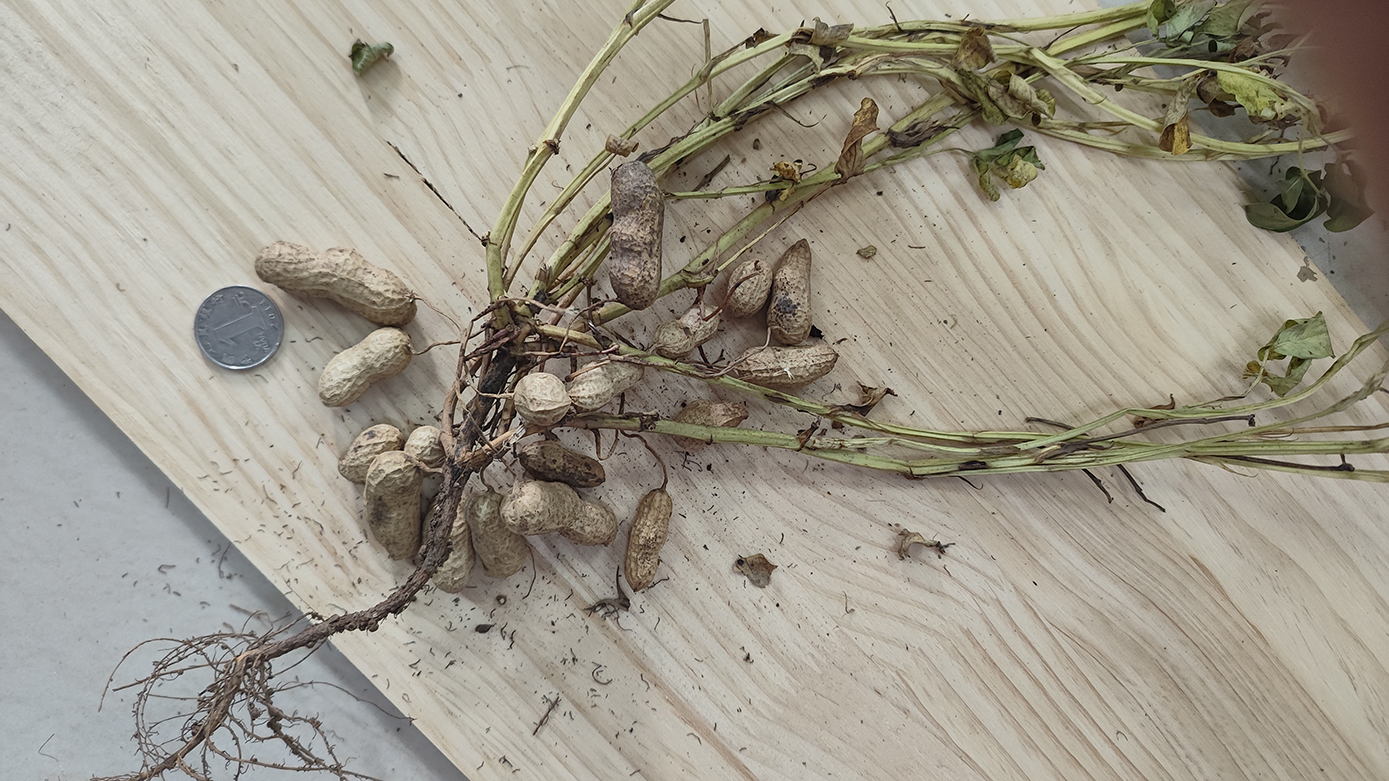h: (256, 240, 418, 327), (502, 480, 617, 545), (318, 328, 411, 408), (362, 451, 423, 561), (420, 490, 473, 594), (767, 237, 814, 346), (469, 492, 525, 577), (626, 488, 671, 593), (736, 346, 838, 387), (520, 441, 607, 487), (337, 422, 403, 482), (574, 357, 643, 412), (672, 400, 749, 447), (654, 306, 720, 356), (514, 371, 570, 426), (723, 259, 773, 316), (404, 426, 448, 471)
l: (607, 161, 664, 310)
